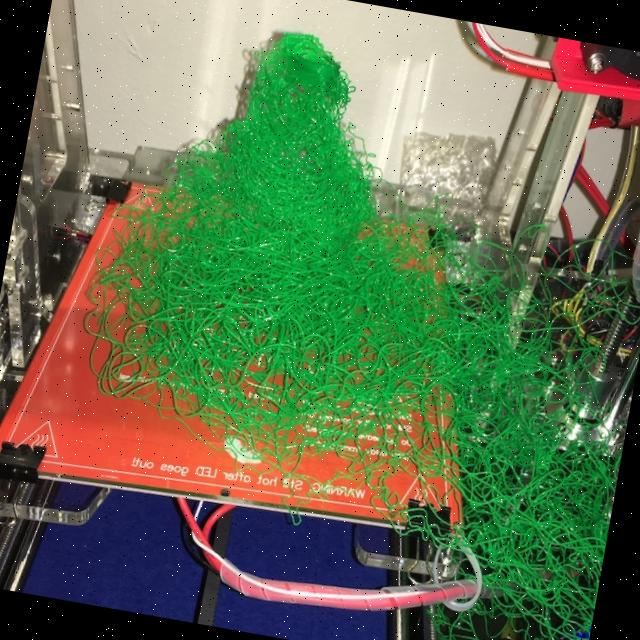spaghetti: (37, 6, 640, 640)
